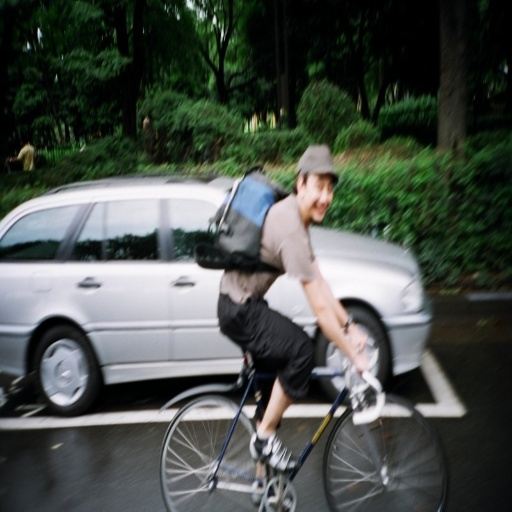hand: (349, 321, 367, 355), (352, 355, 371, 380)
